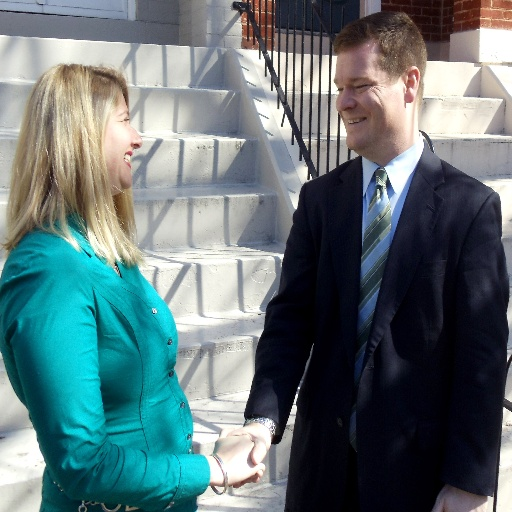hand: (217, 424, 272, 483), (211, 433, 265, 486), (432, 482, 488, 511)
